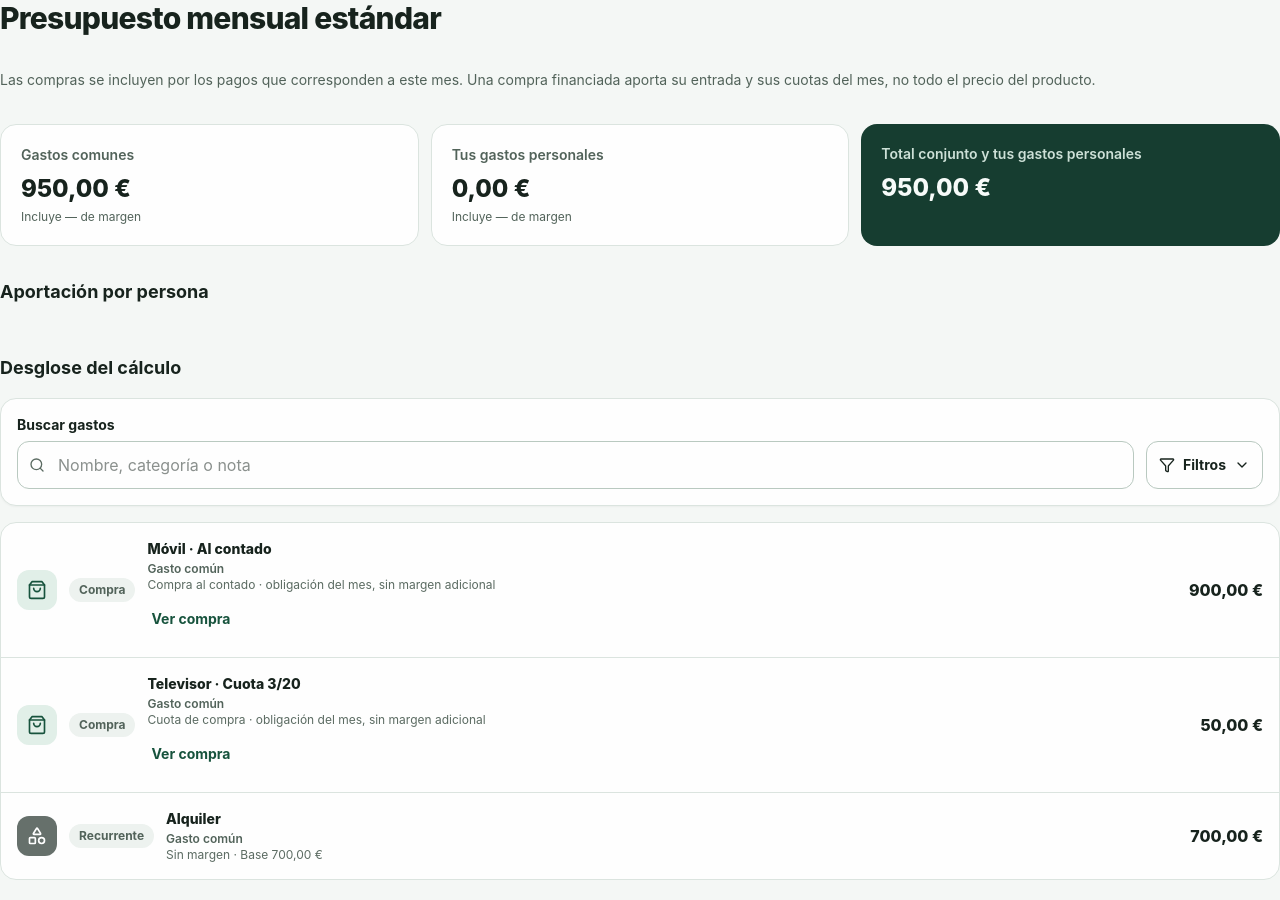
BudgetPage › añade Compras al filtro sin cambiar los totales ni tratar sus pagos como puntuales
Click the button "Filtros" at (1205, 465), box x1=1146 y1=441 x2=1263 y2=489
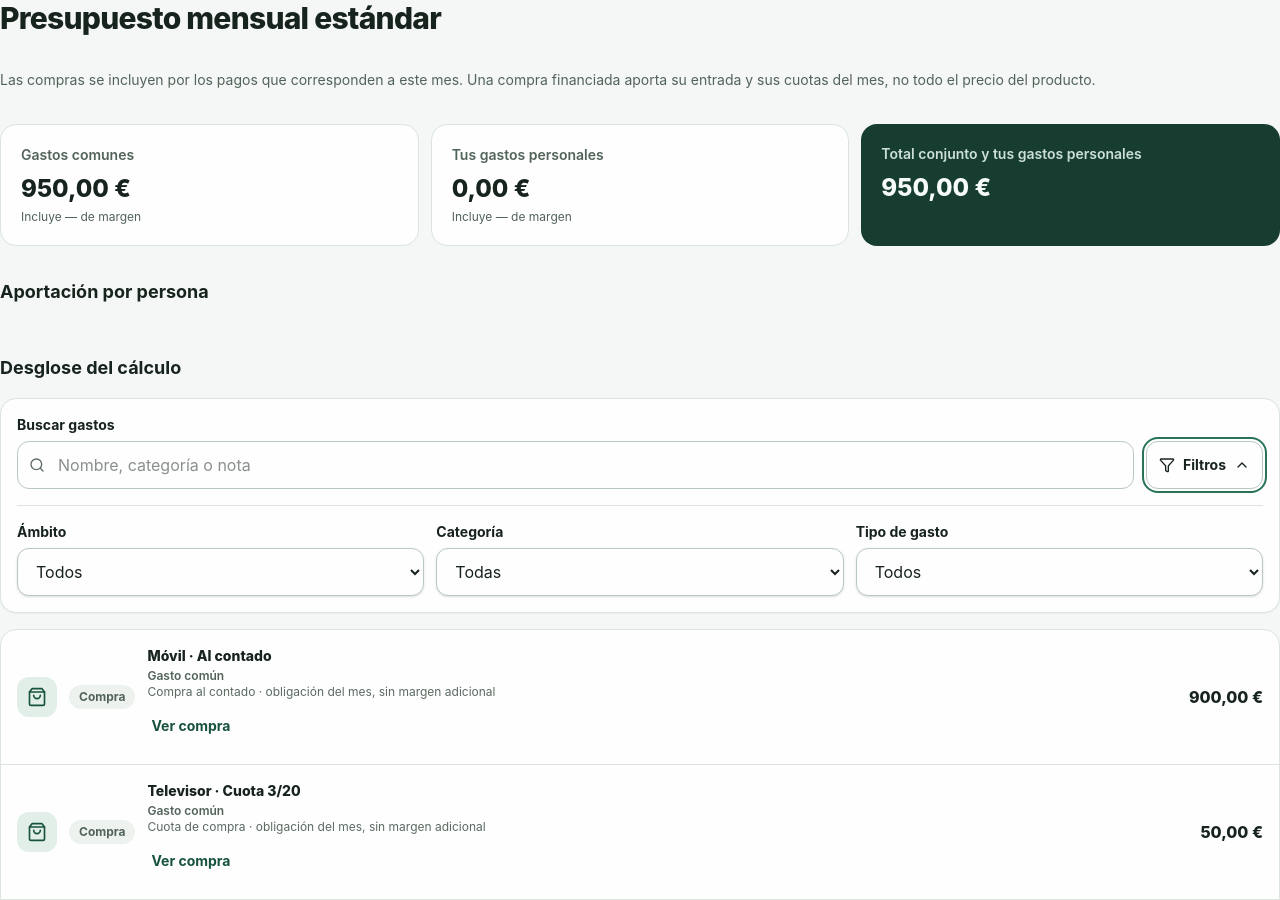
Select "Compras" in the dropdown labelled "Tipo de gasto" at (1059, 572), box x1=856 y1=548 x2=1263 y2=596
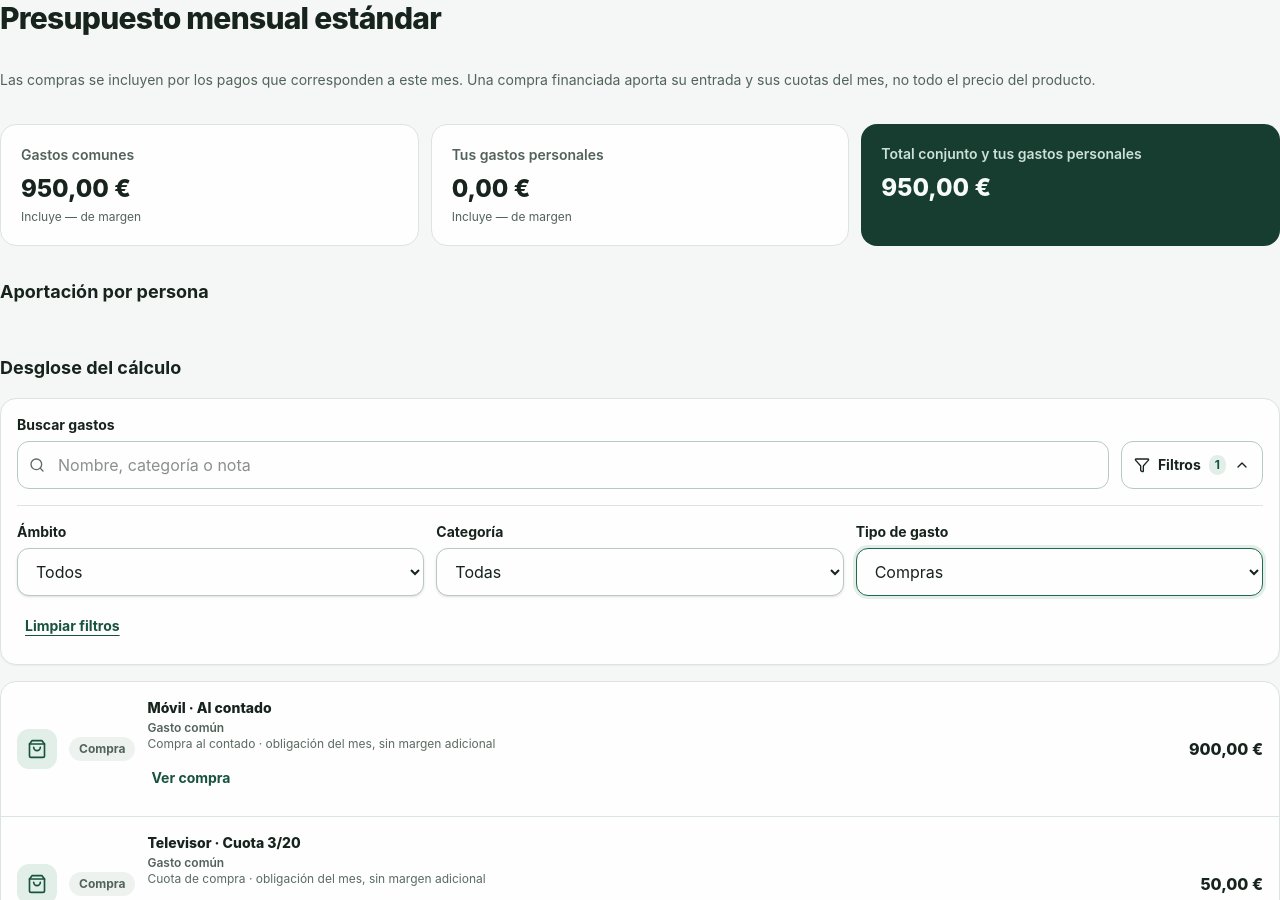
Expected: the heading "Móvil · Al contado" is shown, x1=148 y1=699 x2=272 y2=716
Expected: the heading "Televisor · Cuota 3/20" is shown, x1=148 y1=834 x2=301 y2=851
Select "Puntuales" in the dropdown labelled "Tipo de gasto" at (1059, 572), box x1=856 y1=548 x2=1263 y2=596
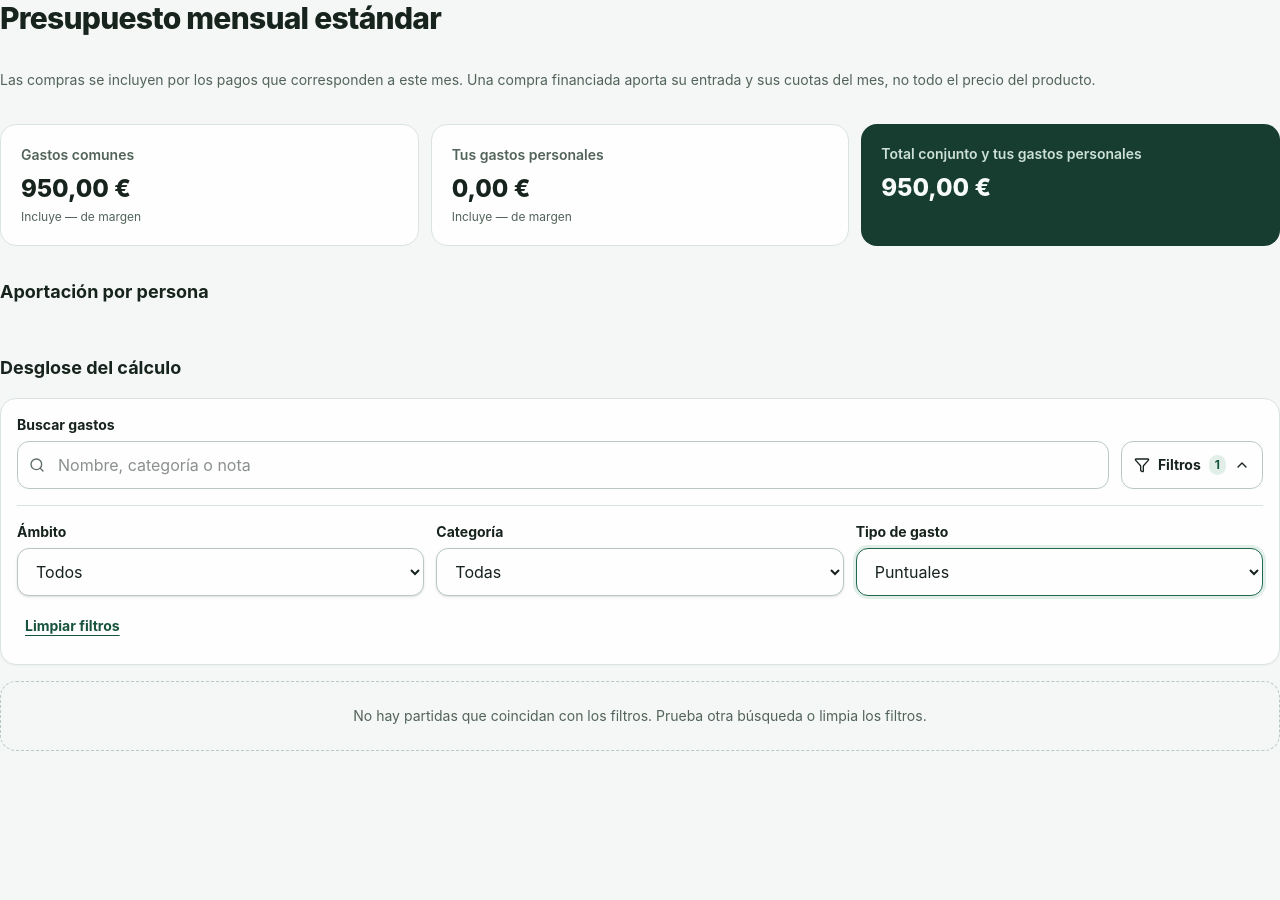
Expected: the heading "Móvil · Al contado" is gone
